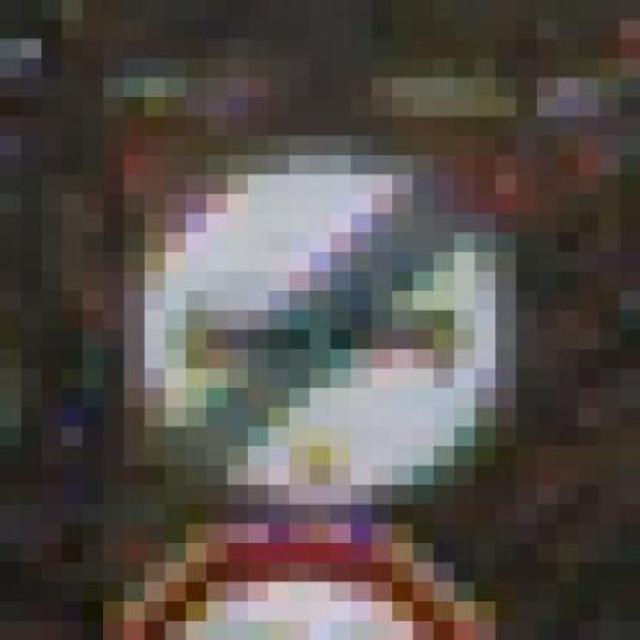No_Over_Taking: (82, 96, 558, 524)
